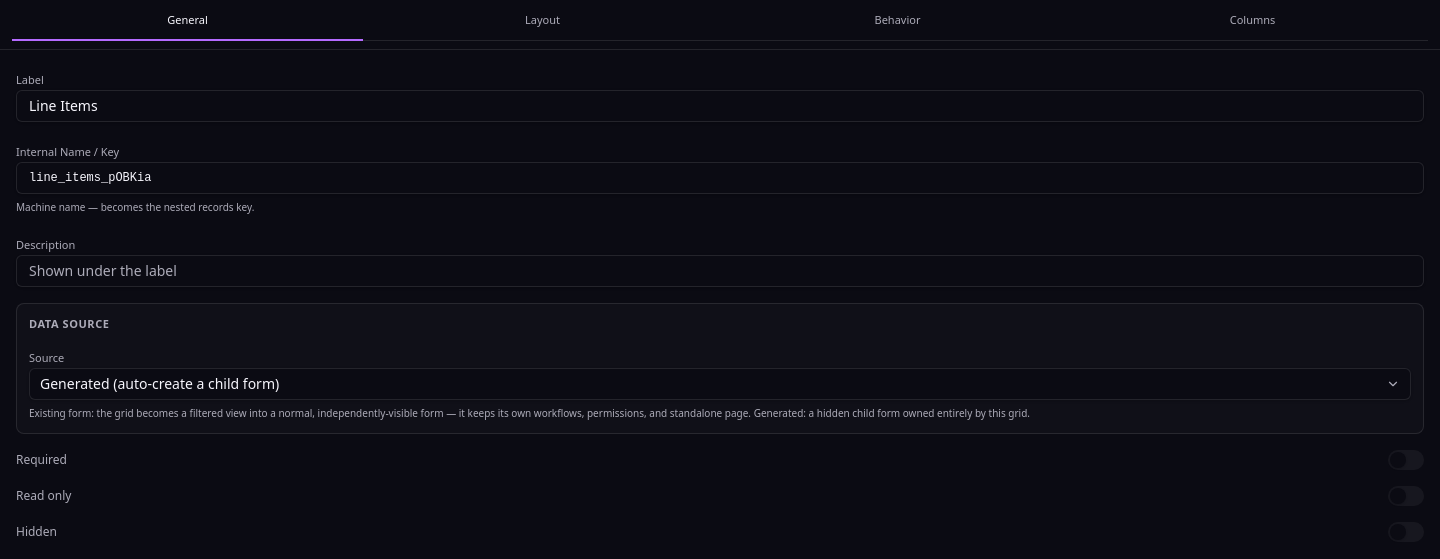
LineItemsConfigTabs — mode-switch data-orphaning warning (FR-C1-004) › a never-migrated element (no sourceMode at all) with a childFormId is still treated as generated
Click the dropdown.
click(160, 384)  # box [29,368,1411,400]
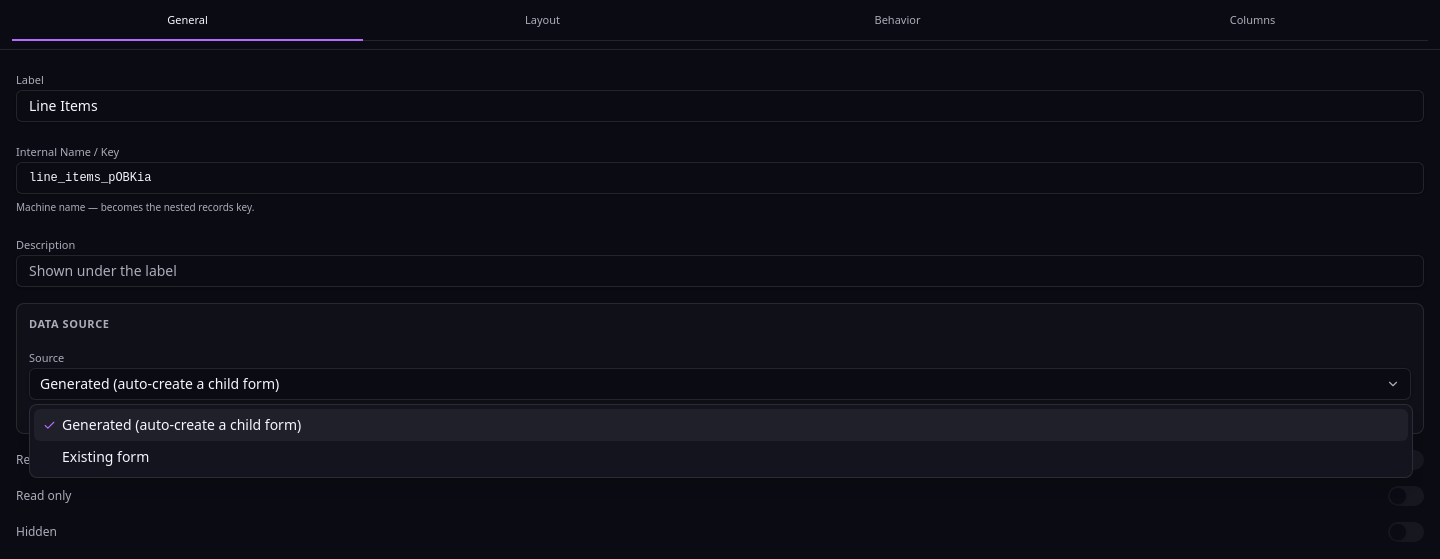
Expected: the option "Generated (auto-create a child form)" is shown, [34,409,1408,441]
